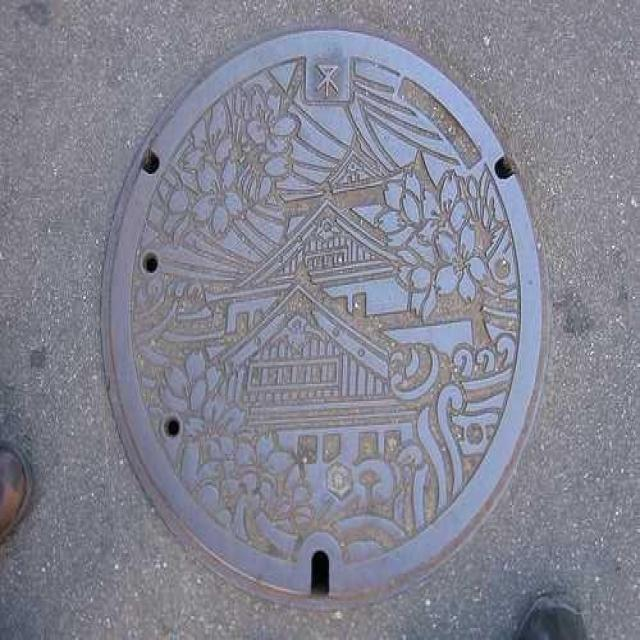manhole: (105, 30, 542, 598)
